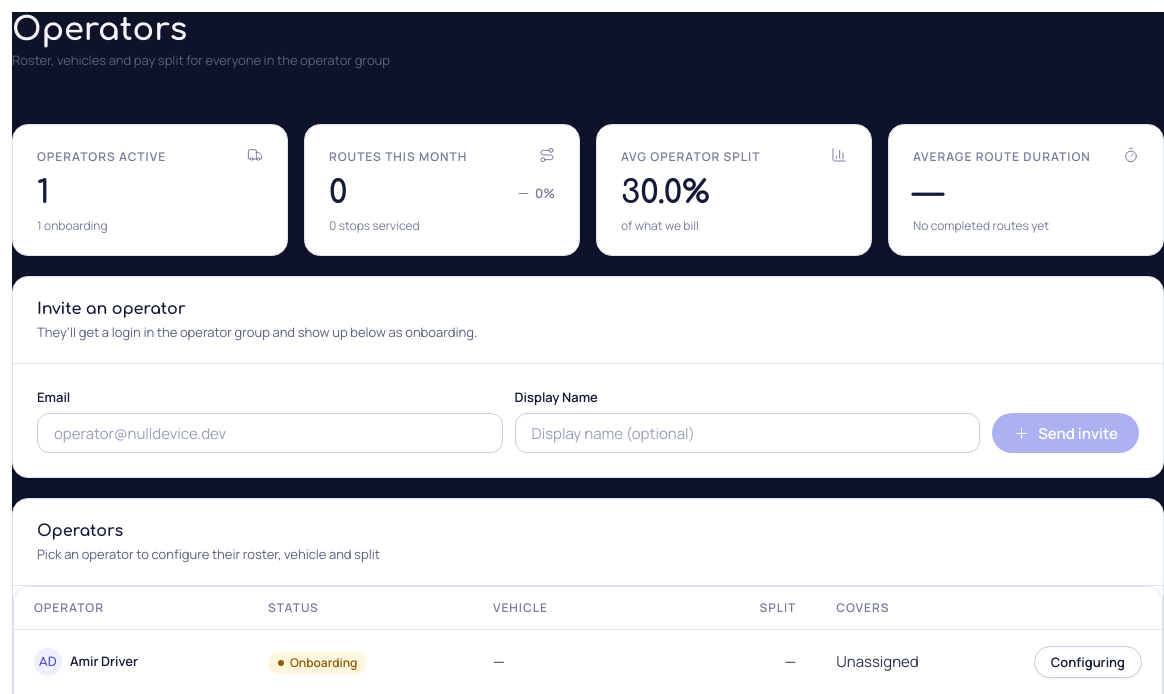
Administrator Operators page › invites a new driver via the operator group
The image size is (1164, 694).
Type "new-driver@nulldevice.dev" into the field named "email for new operator".
click(270, 433); type("new-driver@nulldevice.dev")  # box [37, 413, 503, 453]
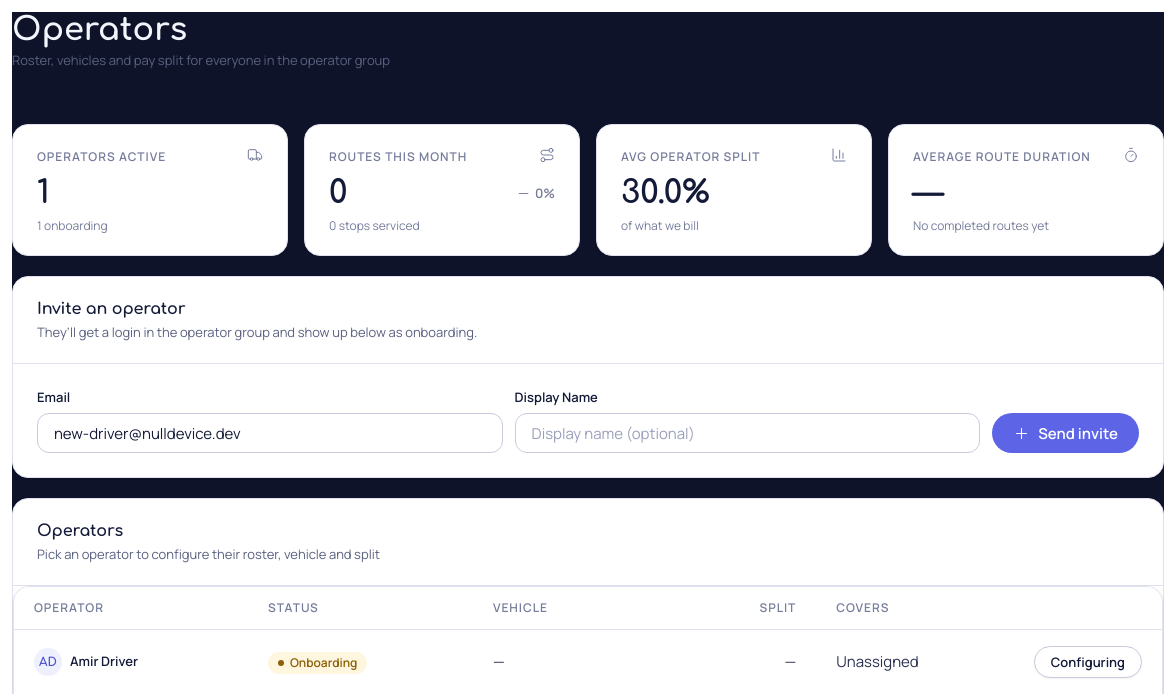
Type "New Driver" into the field named "optional display name for new operator".
click(747, 433); type("New Driver")  # box [515, 413, 980, 453]
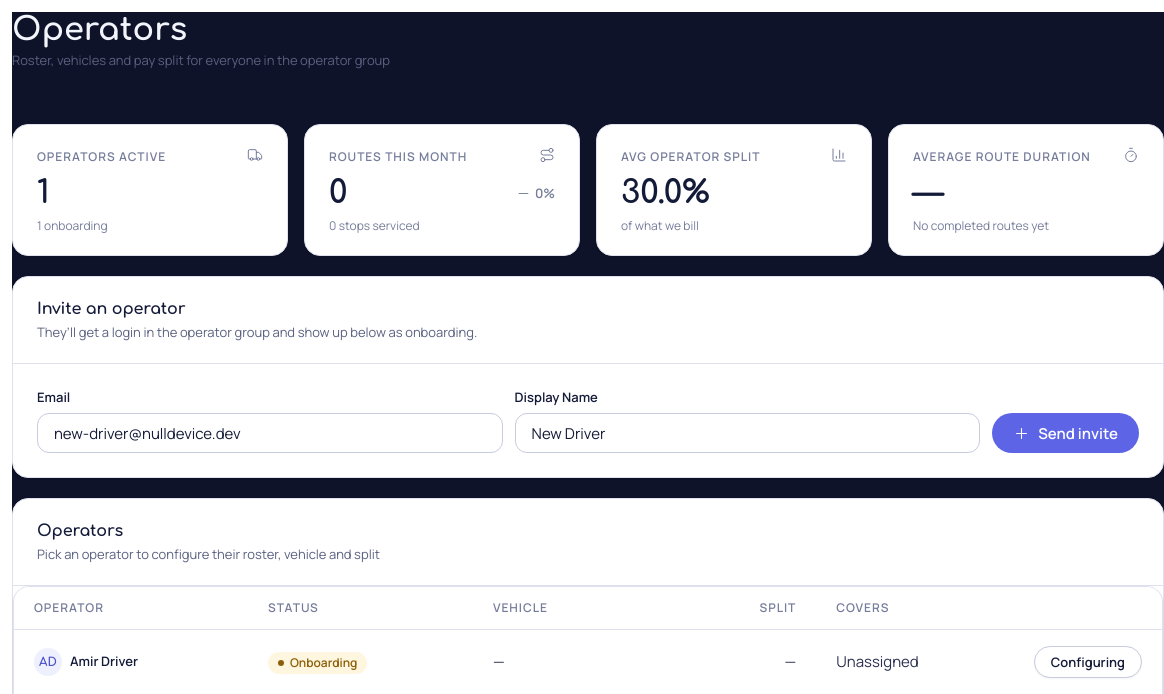
Click the button "Send invite".
click(1066, 433)  # box [992, 413, 1139, 453]
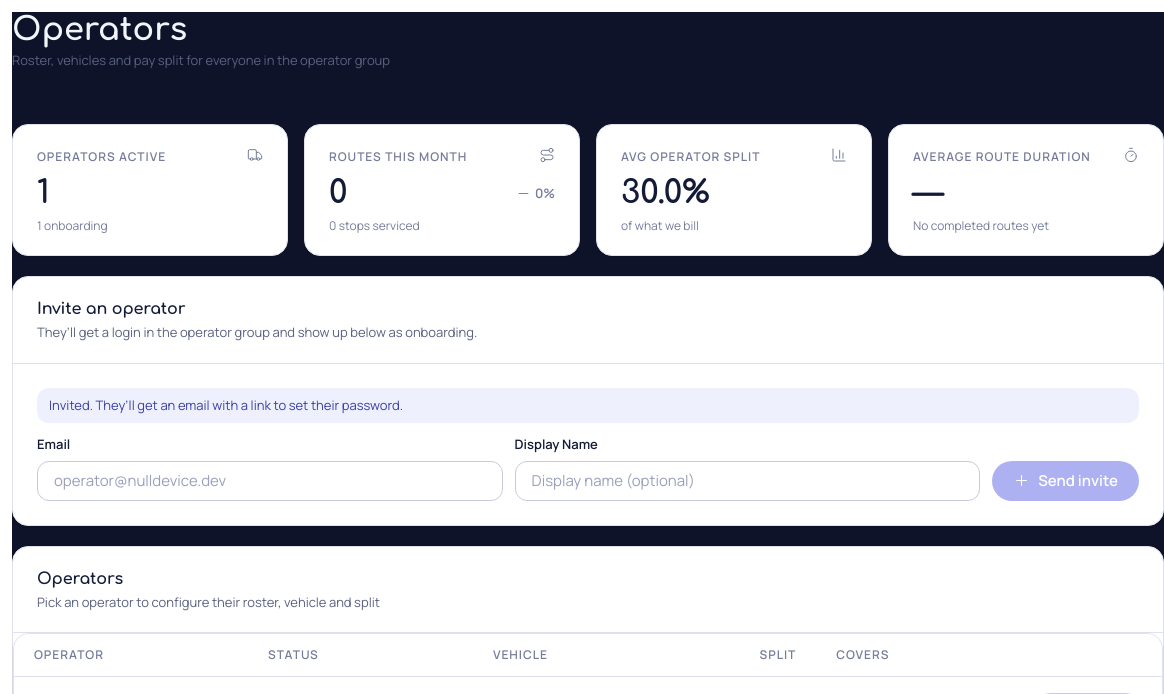
Check: the text "Invited. They’ll get an email with a link to set their password." is shown, box [37, 388, 1139, 423]
Check: the field named "email for new operator" is empty, box [37, 461, 503, 501]
